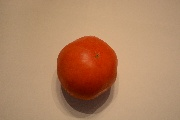tomato: (56, 35, 118, 102)
